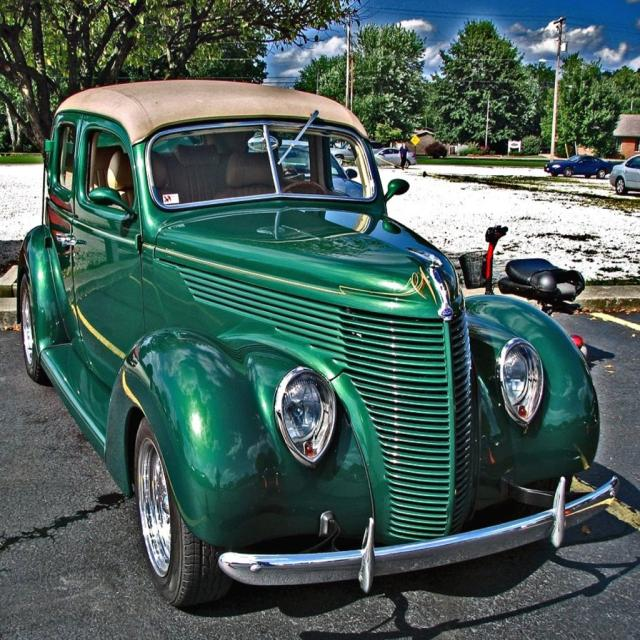car: (23, 62, 609, 627), (551, 147, 601, 171)
